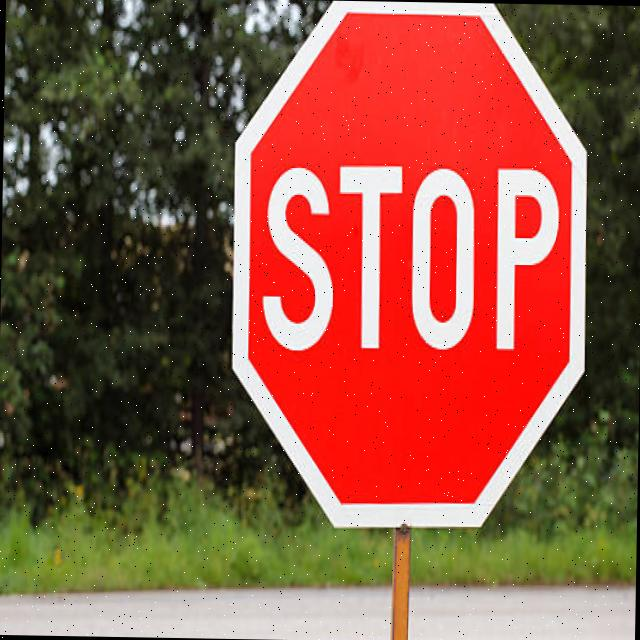stop: (222, 0, 597, 535)
